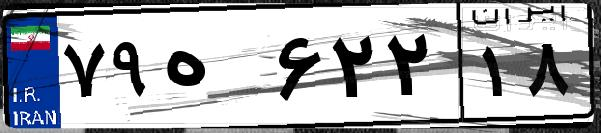1: (475, 38, 525, 113)
2: (385, 28, 445, 110), (330, 28, 385, 110)
6: (270, 28, 330, 110)
7: (57, 26, 110, 100)
8: (525, 38, 570, 115)
9: (110, 28, 158, 98)
ه: (158, 20, 270, 120)
